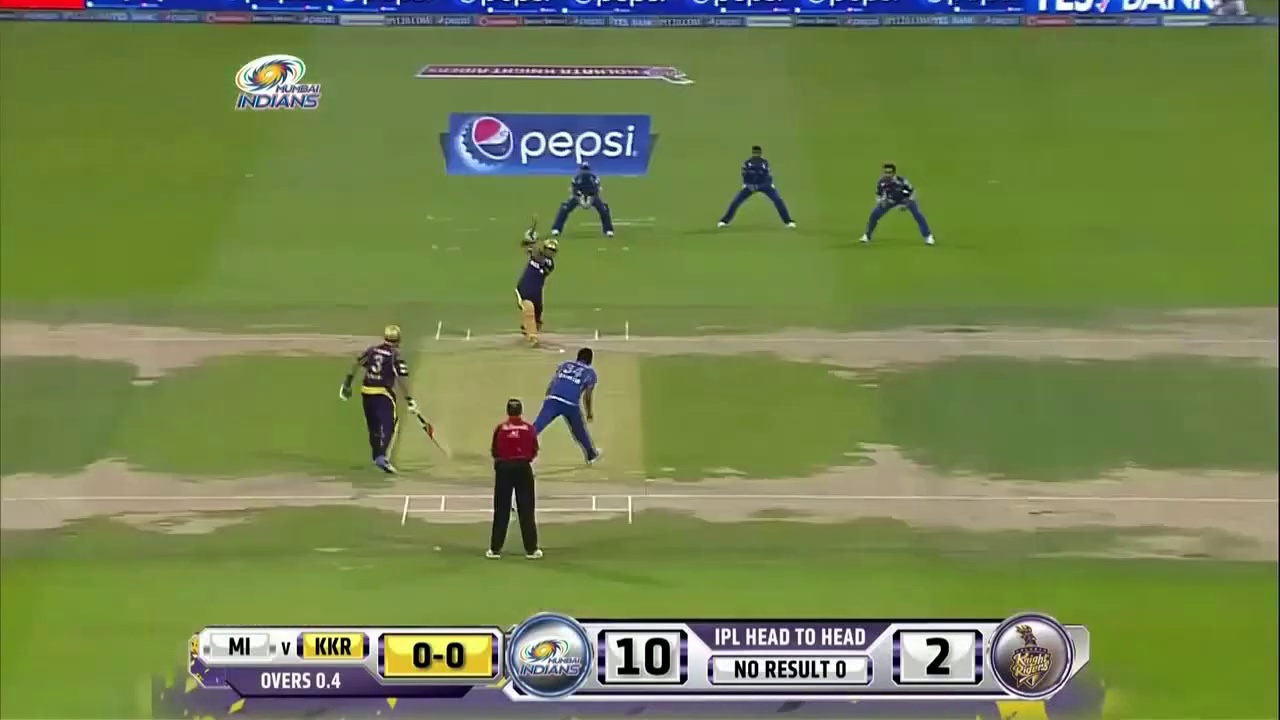bat: (417, 413, 454, 458)
